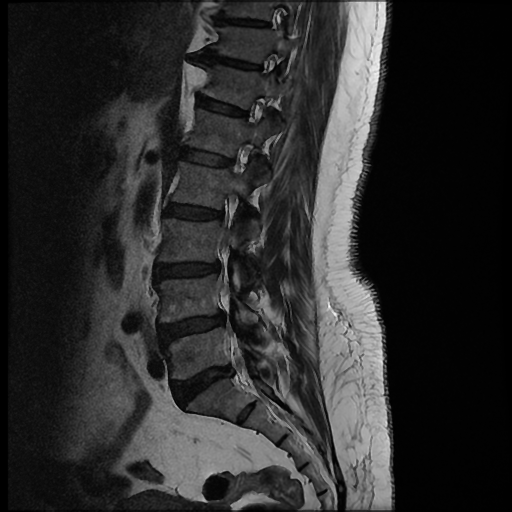RFS0: (218, 131, 263, 183)
